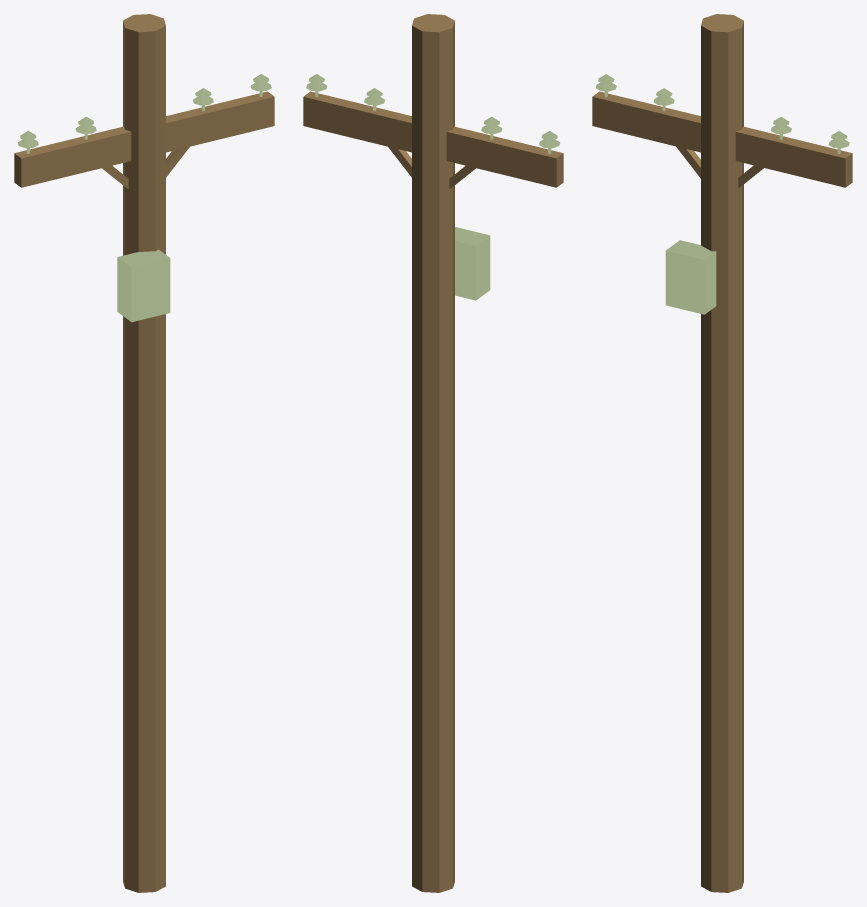
The model's file is telephone pole.fbx.
The picture shows the model from 3 angles, left to right: view 1: azimuth 30°, elevation 25°; view 2: azimuth 150°, elevation 25°; view 3: azimuth 330°, elevation 25°; orthographic projection.
Parts seen in each view (by area): view 1: post, crossbar, transformer; view 2: post, crossbar, transformer; view 3: post, crossbar, transformer.
Boxes of the visible parts, x1,y1,x2,y2 form: post: [123, 14, 165, 892]; crossbar: [14, 91, 274, 187]; transformer: [117, 249, 170, 322]; post: [412, 14, 454, 892]; crossbar: [303, 91, 563, 187]; transformer: [455, 227, 490, 300]; post: [701, 14, 743, 892]; crossbar: [592, 91, 852, 187]; transformer: [665, 240, 716, 314].
Size of the model in its own units: 854 by 2774 by 194.
